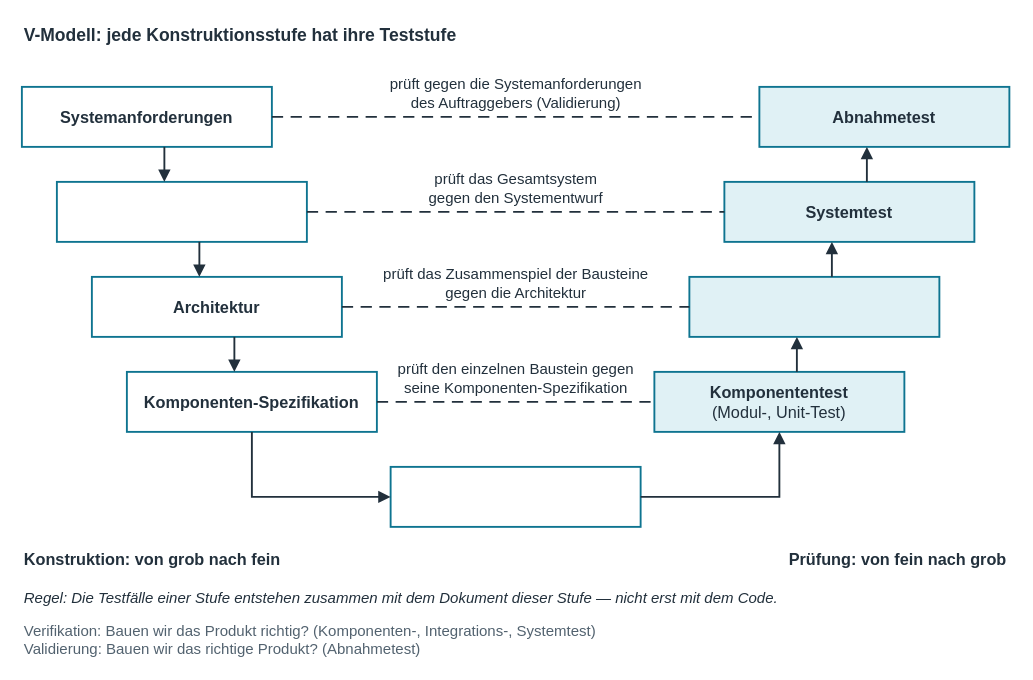
Image size: 1033x680. Some labels were removed from this diagram. The centre of each missing label's shape, as x and y in pixels:
Implementierung: the point at 515,496
Integrationstest: the point at 814,306
Systementwurf: the point at 181,211
